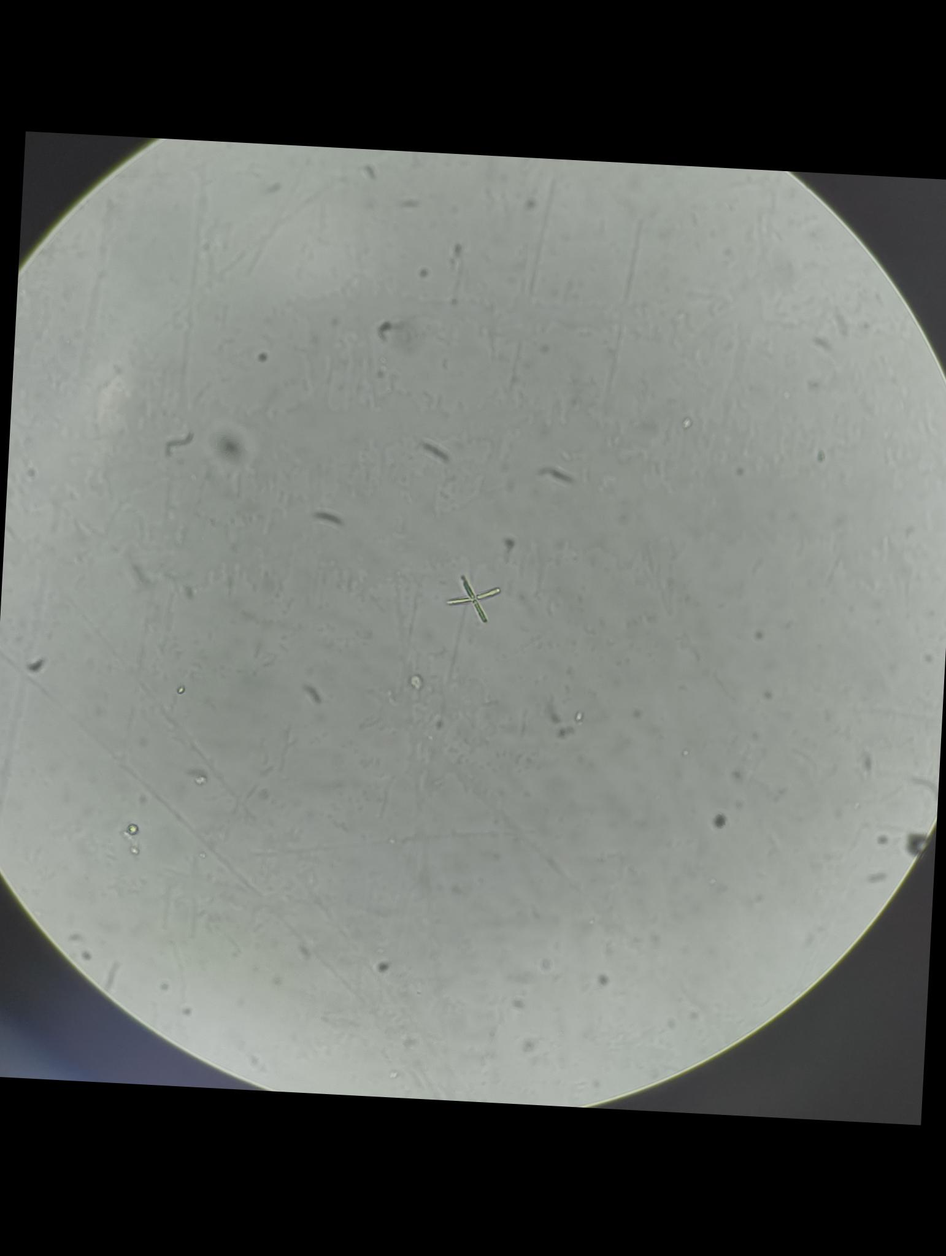Scenedesmus: (437, 565, 512, 626)
